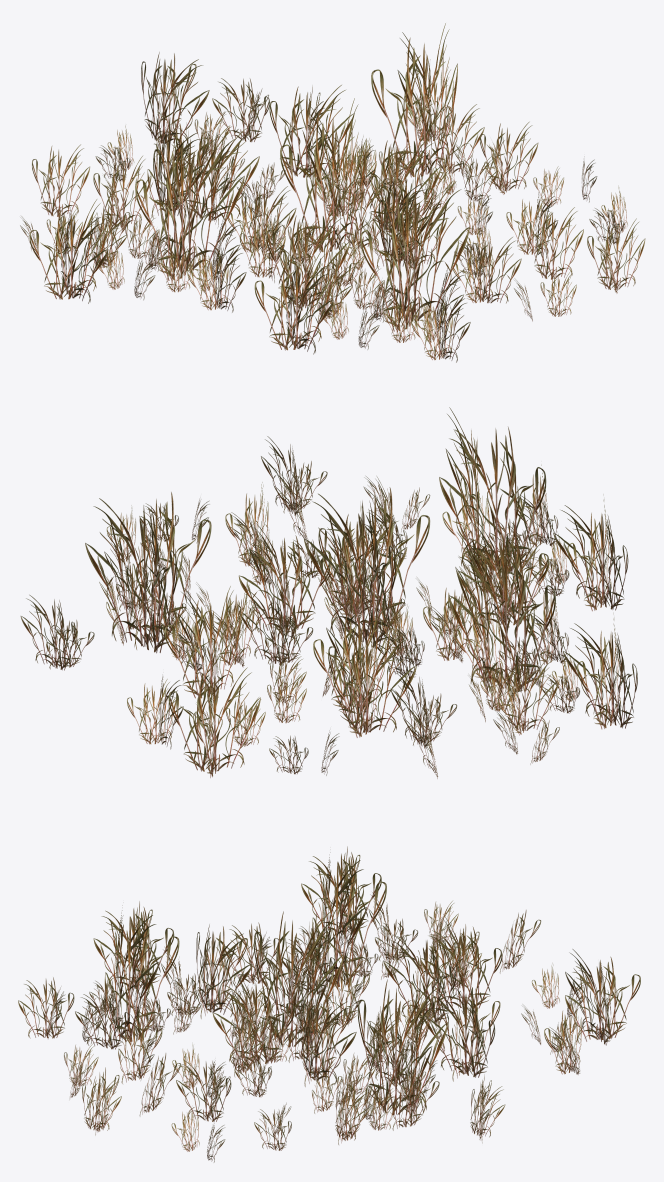
The model's file is pasto_zona_cuatro.glb.
3 renders of one model, top to bottom at view 1: azimuth 30°, elevation 25°; view 2: azimuth 150°, elevation 25°; view 3: azimuth 270°, elevation 25°, orthographic. The views are drawn at different scales.
Visible parts, largest first — view 1: YUYO SECO.001; view 2: YUYO SECO.001; view 3: YUYO SECO.001.
Part boxes in pixels (x1=…): YUYO SECO.001: x1=20, y1=23, x2=645, y2=362; YUYO SECO.001: x1=20, y1=407, x2=637, y2=778; YUYO SECO.001: x1=18, y1=846, x2=640, y2=1162.
Bounding box in the file's own units: 3.61 × 0.9027 × 3.85.
1 material, 1 textured.
